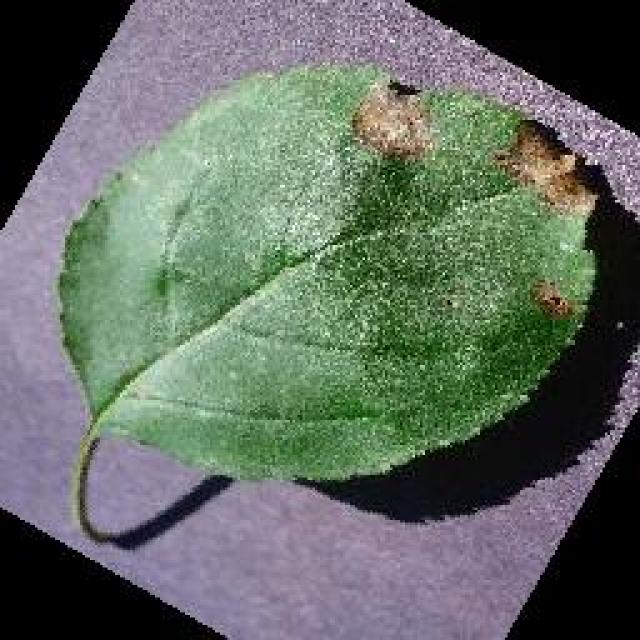Black_rot: (55, 58, 603, 548)
